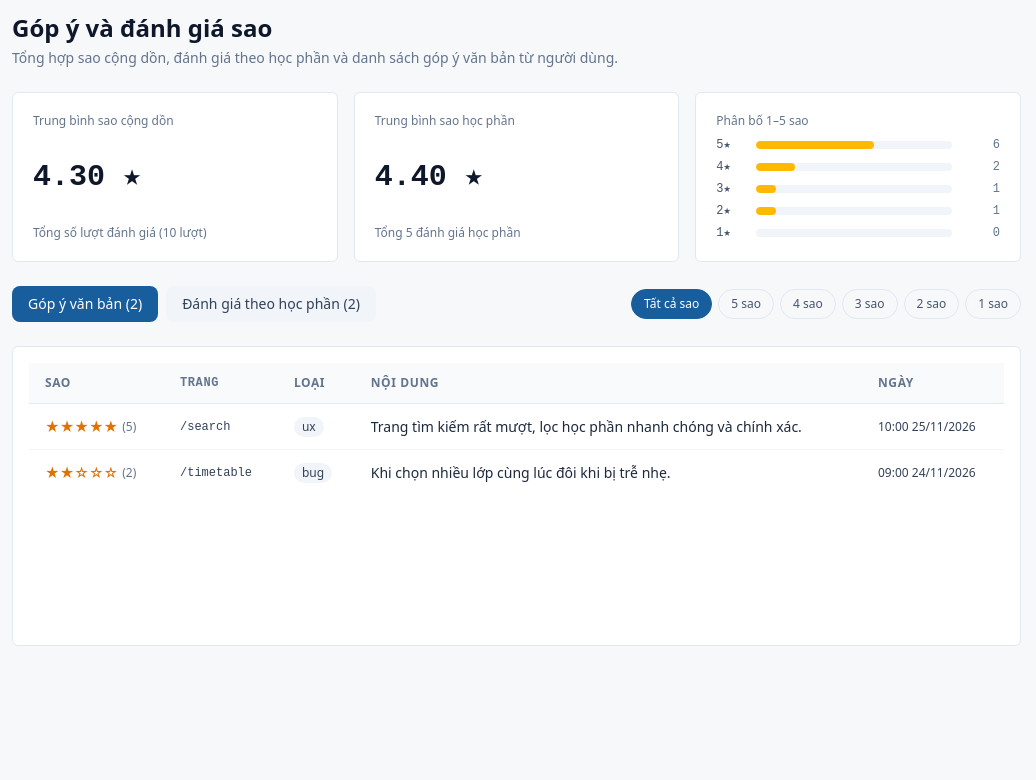
Scenario: Admin Feedback & Star Ratings Page (/admin/feedback) › chuyển sang tab Đánh giá theo học phần hiển thị danh sách học phần
This screenshot has width=1036, height=780.
Check: the text "/search" is shown, box [164,404,278,450]
Step 1. Click the button "Đánh giá theo học phần (2)" → click(271, 304), box [166,286,376,322]
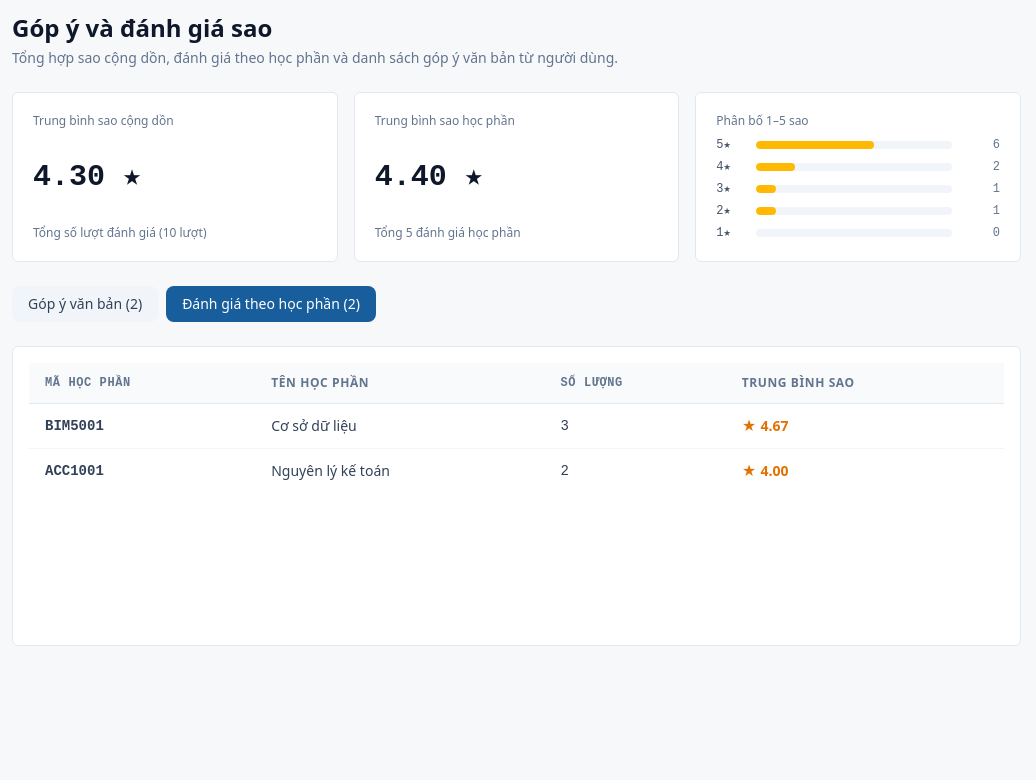
Check: the text "BIM5001" is shown, box [29,404,255,448]
Check: the text "Cơ sở dữ liệu" is shown, box [255,404,544,448]
Check: the text "4.67" is shown, box [760,416,788,436]
